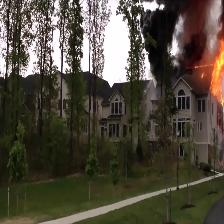fire: (212, 49, 224, 104)
smoke: (179, 2, 209, 68), (148, 8, 175, 75)
